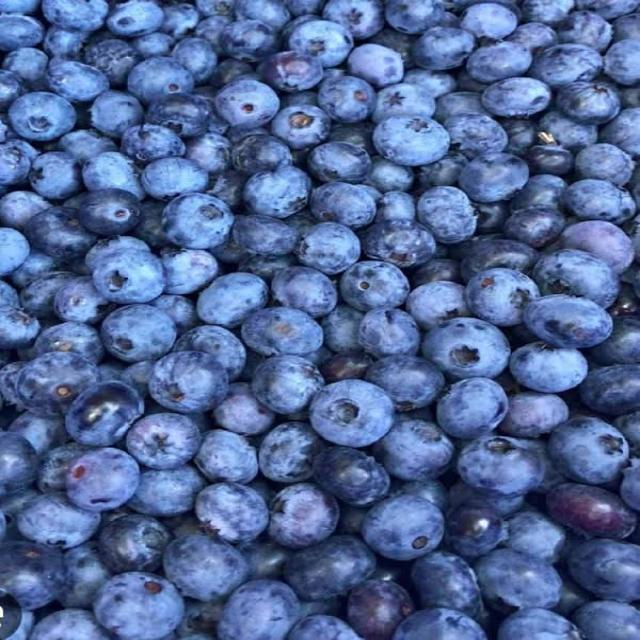blueberry: (94, 572, 184, 639), (163, 533, 248, 601), (285, 536, 375, 600), (310, 380, 393, 447), (548, 417, 629, 484), (16, 352, 99, 416), (362, 495, 443, 560), (423, 318, 509, 379), (532, 249, 619, 309), (457, 436, 543, 496), (476, 549, 562, 608), (547, 483, 636, 539), (66, 382, 143, 446), (375, 419, 454, 481), (217, 580, 299, 639), (149, 351, 228, 412), (523, 294, 612, 348), (16, 493, 100, 548), (268, 483, 339, 548), (0, 541, 66, 610), (67, 448, 139, 511), (411, 552, 481, 616), (365, 355, 444, 411), (313, 448, 389, 506), (196, 482, 268, 543), (568, 540, 639, 601), (251, 355, 324, 414), (437, 378, 507, 439), (126, 413, 201, 469), (466, 269, 539, 326), (102, 305, 175, 362), (99, 515, 170, 573), (162, 193, 234, 249), (92, 249, 165, 304), (173, 326, 246, 381), (509, 342, 587, 393), (242, 307, 323, 356), (259, 422, 324, 483), (25, 206, 97, 260), (347, 579, 414, 637), (560, 220, 633, 273), (128, 466, 205, 516), (198, 273, 267, 327), (374, 116, 450, 165), (197, 17, 278, 62), (362, 220, 436, 268), (58, 541, 111, 608), (340, 261, 409, 312), (244, 166, 311, 218), (460, 237, 538, 281), (466, 31, 532, 83), (459, 153, 529, 202), (445, 502, 506, 558), (12, 263, 74, 318), (195, 429, 258, 483), (271, 267, 338, 317), (296, 223, 360, 275), (127, 55, 194, 104), (407, 278, 470, 330), (417, 187, 475, 243), (9, 92, 75, 141), (504, 510, 566, 562), (564, 178, 635, 223), (288, 20, 353, 68), (310, 182, 375, 229), (531, 44, 602, 87), (501, 392, 568, 437), (580, 365, 639, 416), (215, 79, 279, 126), (359, 309, 420, 358), (146, 93, 211, 138), (34, 322, 104, 363), (394, 608, 486, 639), (83, 152, 145, 198), (122, 124, 197, 162), (78, 189, 139, 235), (141, 158, 207, 200), (444, 114, 507, 158), (411, 27, 475, 70), (318, 76, 376, 123), (54, 276, 112, 323), (85, 39, 141, 87), (46, 59, 108, 102), (270, 105, 329, 150), (483, 78, 551, 117), (556, 82, 619, 124), (308, 141, 371, 183), (231, 215, 297, 255), (160, 249, 218, 294), (260, 51, 323, 92), (573, 600, 639, 639), (37, 442, 88, 492), (498, 608, 580, 639), (8, 412, 68, 454), (0, 432, 38, 497), (348, 43, 404, 87), (29, 153, 82, 199), (575, 143, 633, 185), (373, 83, 435, 122), (323, 0, 383, 39), (30, 609, 107, 639), (85, 236, 150, 271), (367, 156, 413, 203), (106, 0, 164, 37), (172, 38, 217, 84), (239, 540, 292, 579), (461, 3, 518, 39), (42, 0, 108, 31), (322, 305, 363, 354), (384, 0, 443, 34), (0, 191, 50, 231), (185, 132, 231, 174), (601, 108, 639, 157), (287, 614, 359, 639), (0, 304, 40, 349), (2, 47, 48, 85), (435, 91, 489, 123), (234, 0, 291, 29), (0, 13, 43, 51), (604, 39, 639, 84), (320, 353, 372, 383), (404, 69, 456, 99), (44, 25, 86, 59), (527, 144, 573, 175), (0, 228, 29, 276), (522, 0, 574, 26), (0, 143, 30, 188), (376, 190, 415, 221), (620, 462, 639, 509)
